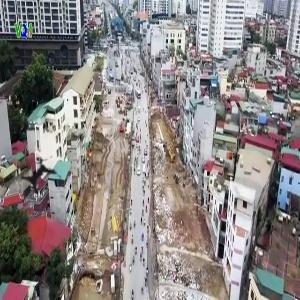drone: (1, 135, 82, 216)
